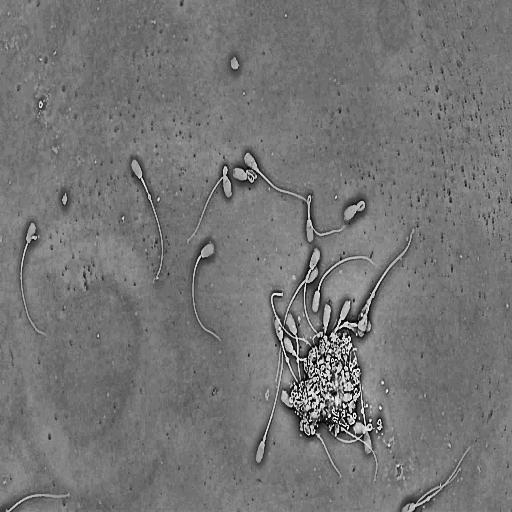coiled-tail: (186, 165, 228, 242), (343, 198, 367, 224), (232, 164, 259, 185), (246, 169, 256, 183), (356, 201, 365, 211)
dirt-particles: (288, 328, 362, 438), (230, 54, 240, 72), (61, 190, 68, 210), (376, 417, 384, 433), (38, 100, 43, 109)
distal-droplet: (148, 193, 151, 200), (426, 496, 430, 501)
folded-tail: (308, 195, 342, 236)
loose-tail: (270, 290, 315, 351), (3, 490, 72, 512)
normal: (274, 262, 320, 384), (400, 442, 473, 512), (128, 157, 166, 282), (311, 253, 377, 315), (186, 162, 233, 246), (254, 343, 284, 467), (18, 218, 48, 339), (243, 149, 309, 204), (190, 239, 222, 343), (305, 192, 347, 244), (303, 244, 322, 335)
